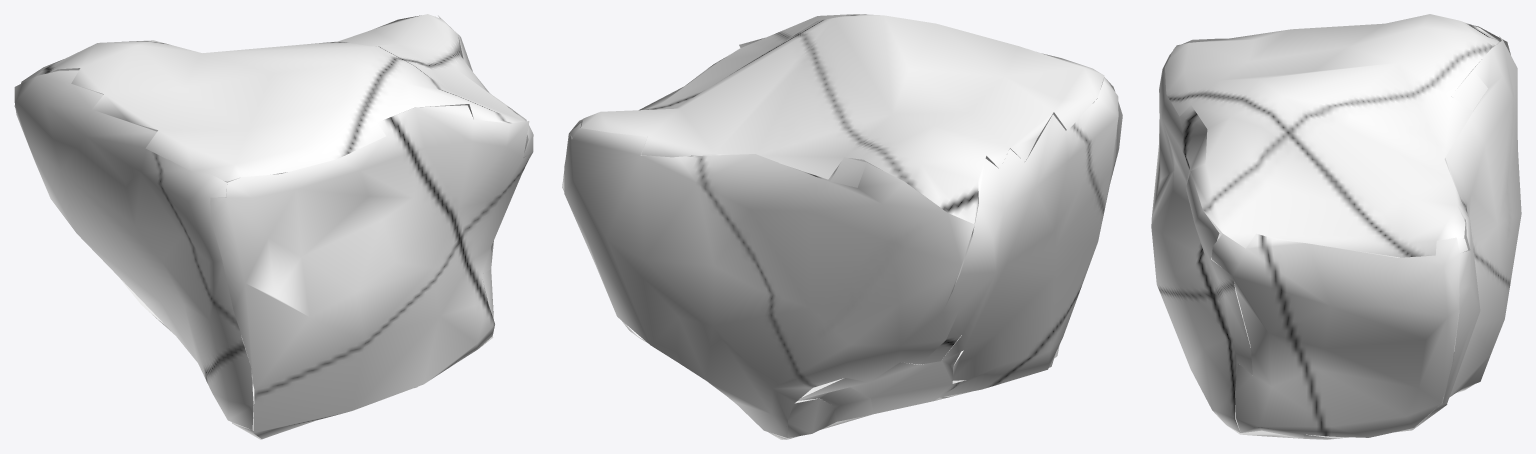
File: asteroide10.obj
The picture shows the model from 3 angles, left to right: view 1: azimuth 30°, elevation 25°; view 2: azimuth 150°, elevation 25°; view 3: azimuth 270°, elevation 25°; orthographic projection. The views are drawn at different scales.
Visible parts, largest first — view 1: Asteroid_no_10_Material_#3_0; view 2: Asteroid_no_10_Material_#3_0; view 3: Asteroid_no_10_Material_#3_0.
Boxes of the visible parts, x1,y1,x2,y2 form: Asteroid_no_10_Material_#3_0: (14, 14, 533, 439); Asteroid_no_10_Material_#3_0: (562, 14, 1122, 439); Asteroid_no_10_Material_#3_0: (1151, 14, 1521, 439).
Size of the model in its own units: 0.3859 by 0.2849 by 0.2955.
